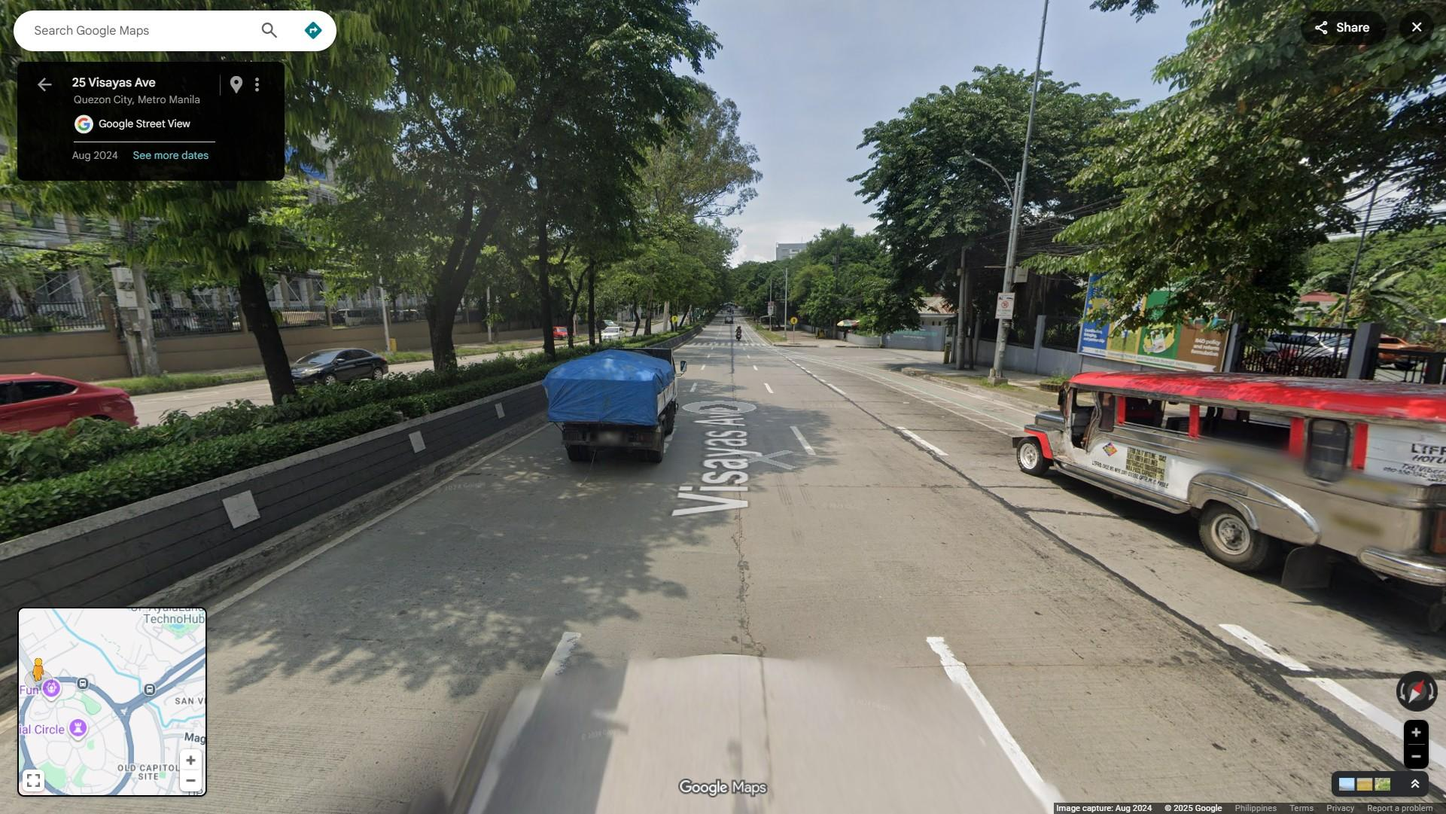pedestrian: (842, 327, 849, 342)
